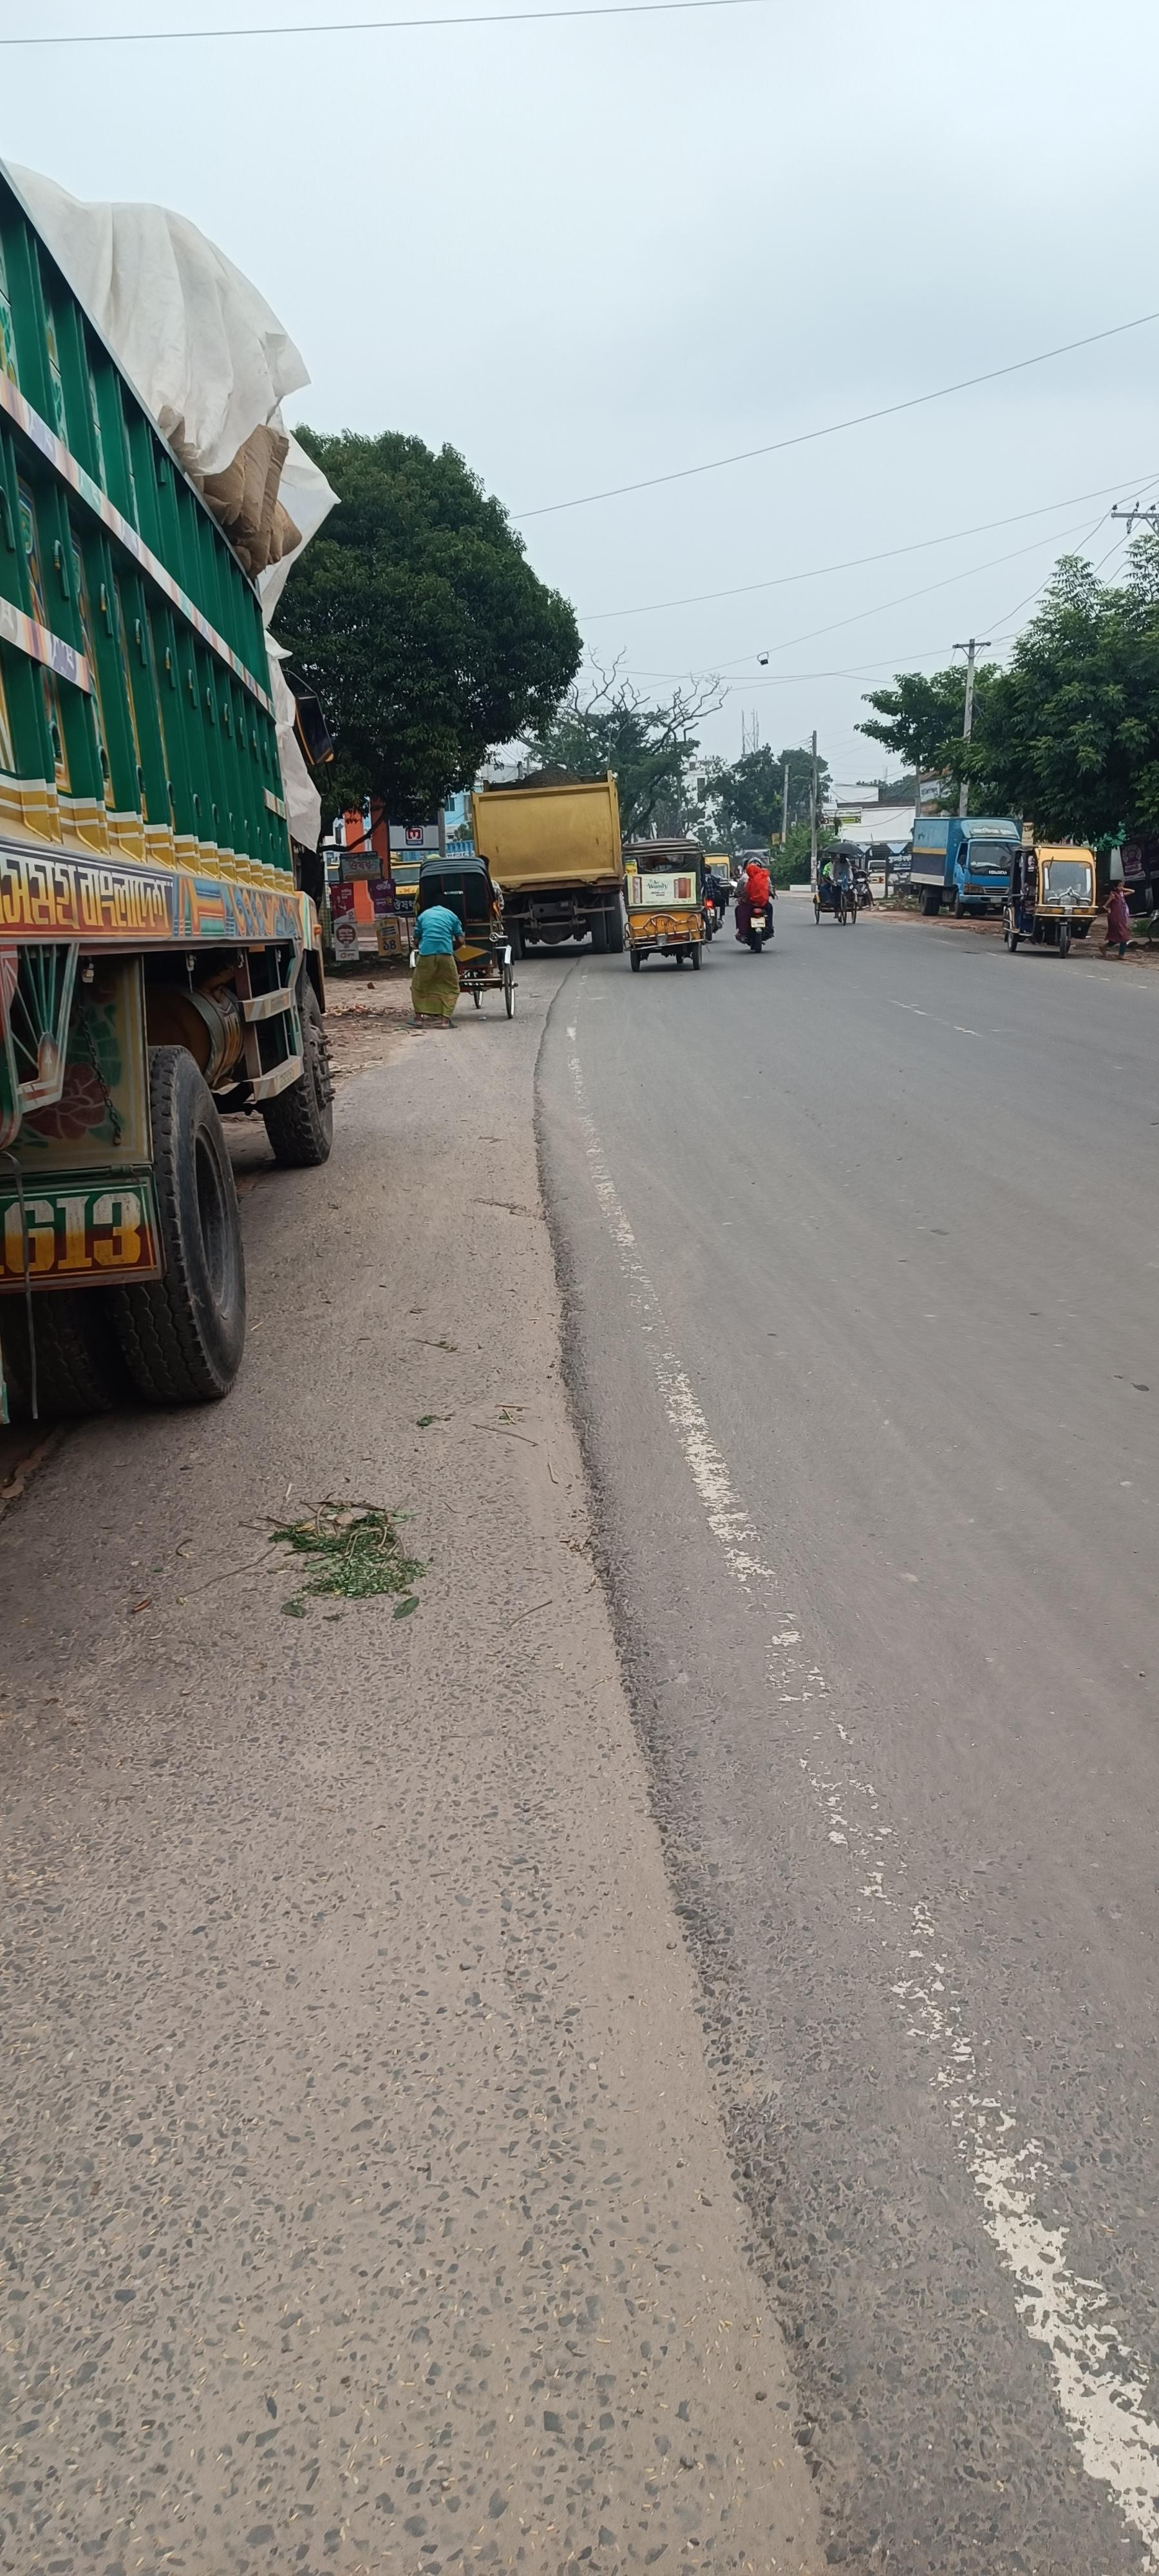Construction-barrier: (568, 1403, 831, 2556)
Garbage-bin: (410, 887, 466, 1028), (735, 856, 775, 951), (1103, 881, 1134, 959)
Pothole: (3, 948, 547, 2573)
Traffic-cone: (20, 161, 405, 1610), (612, 823, 727, 984)
